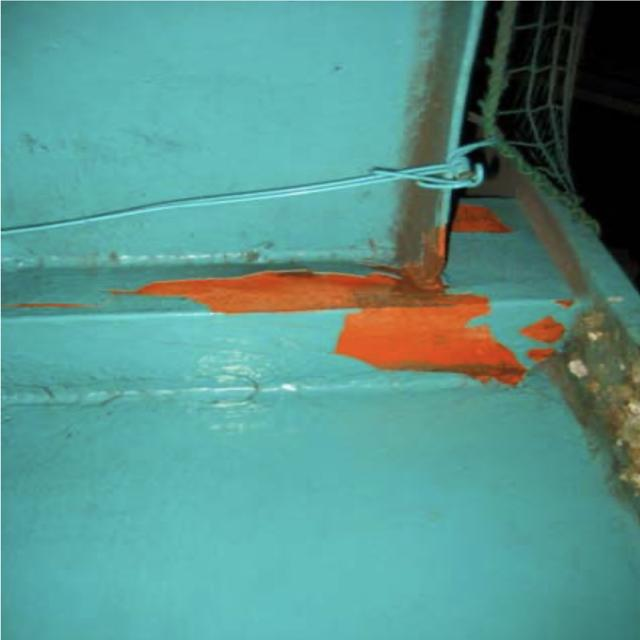corrosion: (155, 244, 536, 384)
